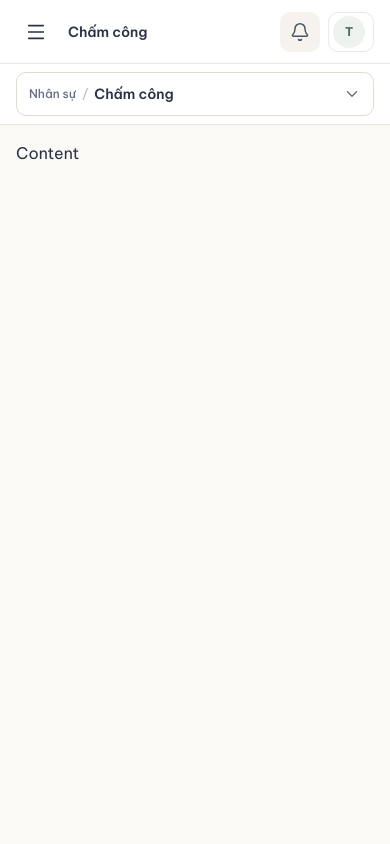
Test: Grouped shell navigation (design 01) › shows group titles and the module strip only where they apply, and lists the active domain's modules in the drawer
The image size is (390, 844).
Expected: the text "Vận hành" is not shown
Click the button named "Mở điều hướng chính". click: (36, 32)
box: [16,12,56,52]
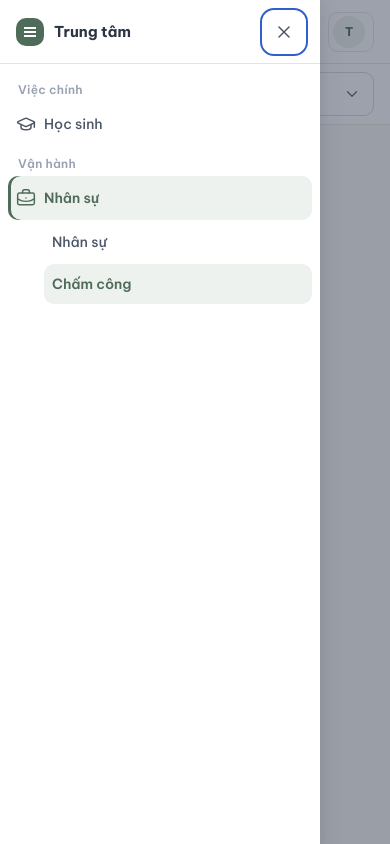
Result: the text "Vận hành" is shown at [18,156,76,171]
